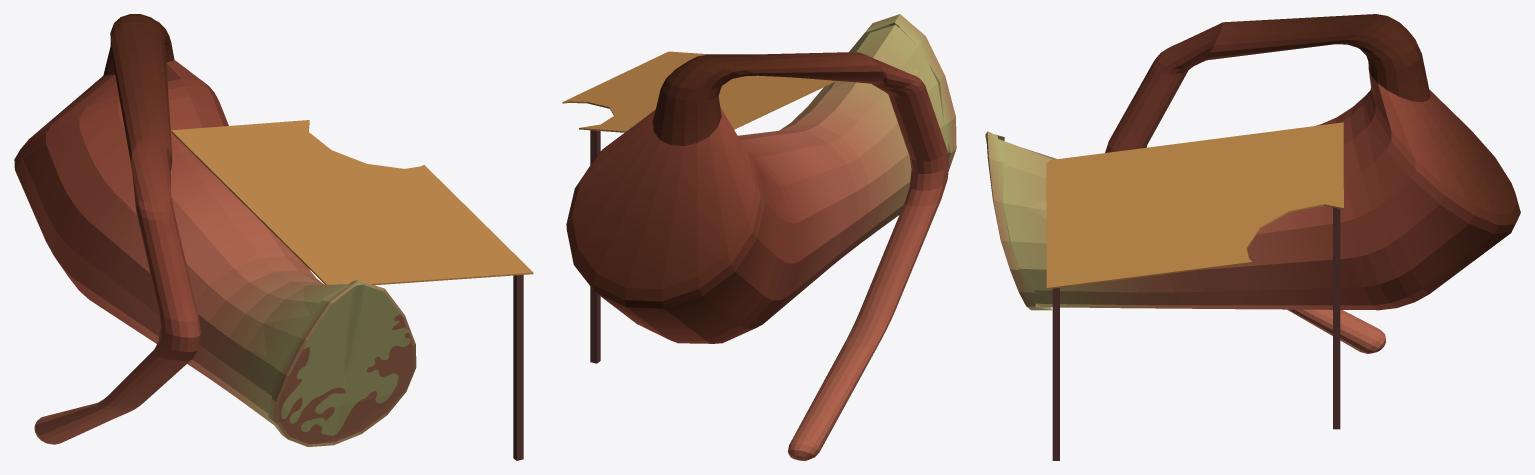
Rendered from l3House With Extended.glb.
3 views of the same model, side by side, from view 1: azimuth 30°, elevation 25°; view 2: azimuth 150°, elevation 25°; view 3: azimuth 270°, elevation 25° (orthographic). The views are drawn at different scales.
Parts seen in each view (by area): view 1: Circle.004, Cube.003; view 2: Circle.004, Cube.003; view 3: Circle.004, Cube.003.
Boxes of the visible parts, <box> form: Circle.004: <box>14,14,416,446</box>; Cube.003: <box>171,120,533,460</box>; Circle.004: <box>566,14,956,460</box>; Cube.003: <box>562,51,836,363</box>; Circle.004: <box>985,14,1520,353</box>; Cube.003: <box>1046,122,1343,460</box>.
Bounding box in the file's own units: 3.63 × 4.2 × 5.47.
Materials: 4 (2 with a texture image).
